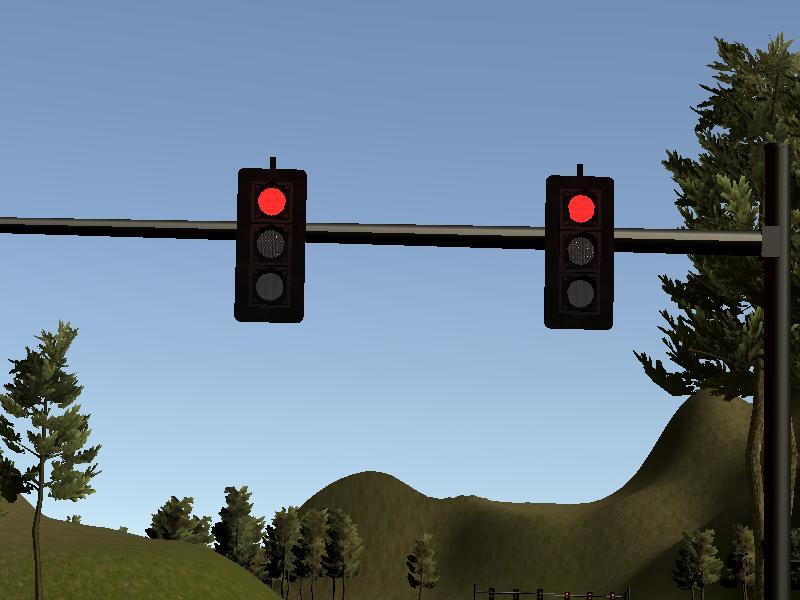Red: (544, 175, 613, 329), (236, 168, 305, 322)
